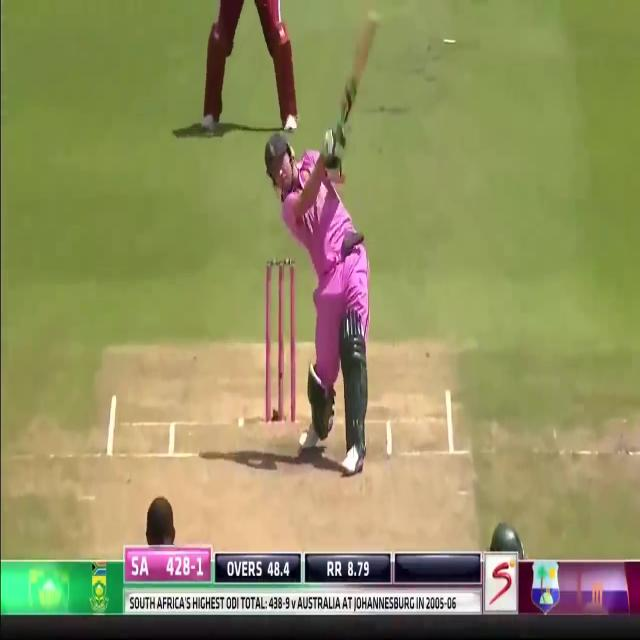Ball: (257, 126, 372, 468)
Fielder: (195, 1, 252, 131)
